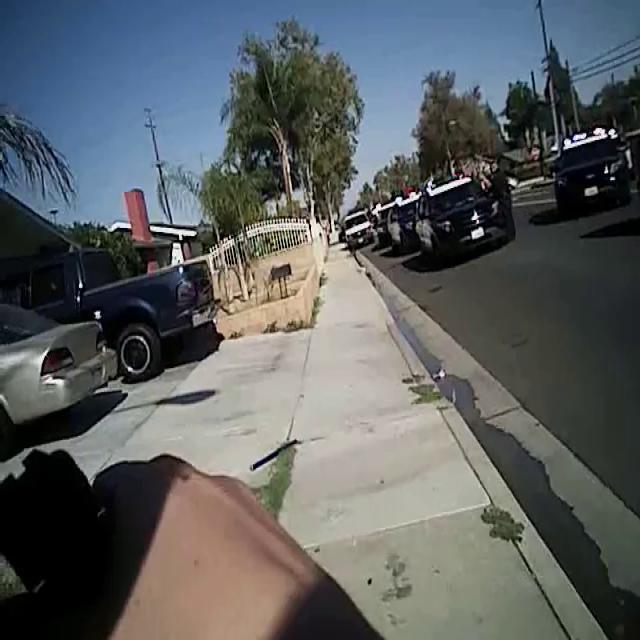gun: (0, 426, 146, 618)
